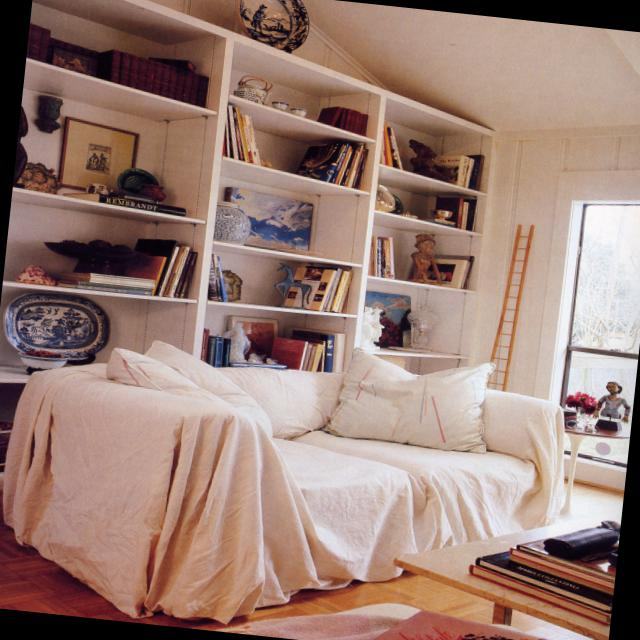couch -x: (0, 333, 565, 619)
painting crop: (57, 116, 137, 191), (223, 187, 313, 253)
